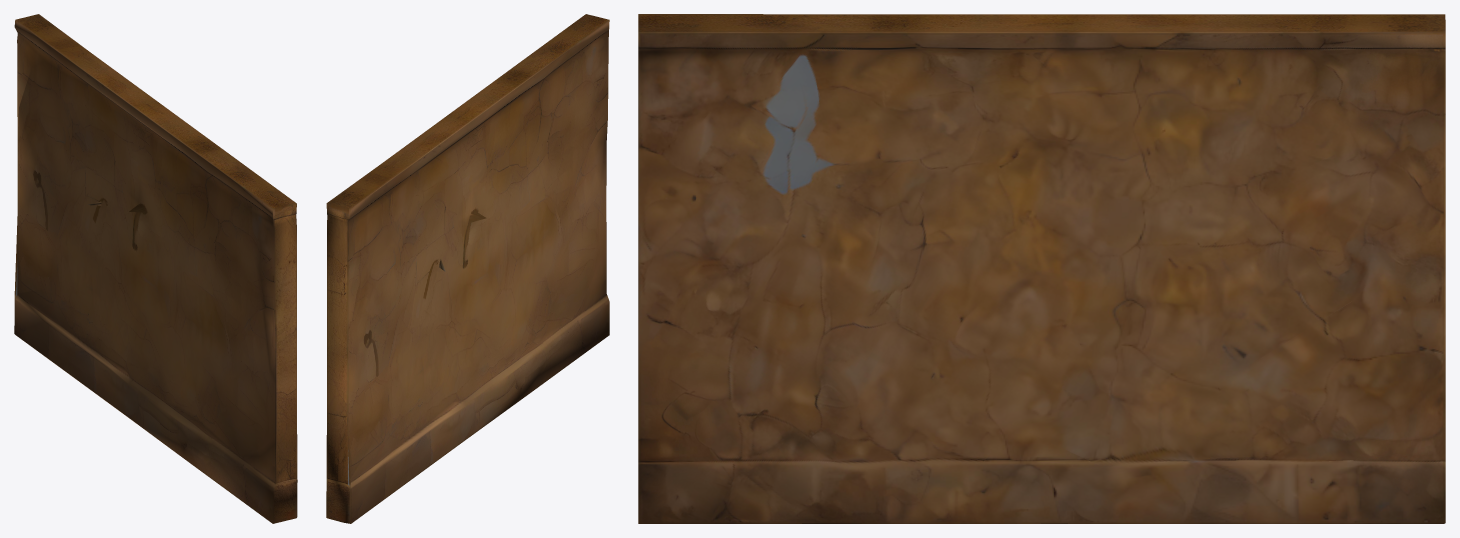
Rendered from wall4.glb.
3 renders of one model, left to right at view 1: azimuth 30°, elevation 25°; view 2: azimuth 150°, elevation 25°; view 3: azimuth 270°, elevation 25°, orthographic. The views are drawn at different scales.
Parts seen in each view (by area): view 1: tripo_node_34b120ae-0851-4c75-a152-4f313ea0cb77; view 2: tripo_node_34b120ae-0851-4c75-a152-4f313ea0cb77; view 3: tripo_node_34b120ae-0851-4c75-a152-4f313ea0cb77.
Boxes of the visible parts, box(x1,y1,x2,y2) form: tripo_node_34b120ae-0851-4c75-a152-4f313ea0cb77: box(14, 14, 297, 523); tripo_node_34b120ae-0851-4c75-a152-4f313ea0cb77: box(326, 14, 609, 523); tripo_node_34b120ae-0851-4c75-a152-4f313ea0cb77: box(638, 14, 1445, 523).
Size of the model in its own units: 0.0801 by 0.6721 by 0.9999.
Materials: 1 (1 with a texture image).
